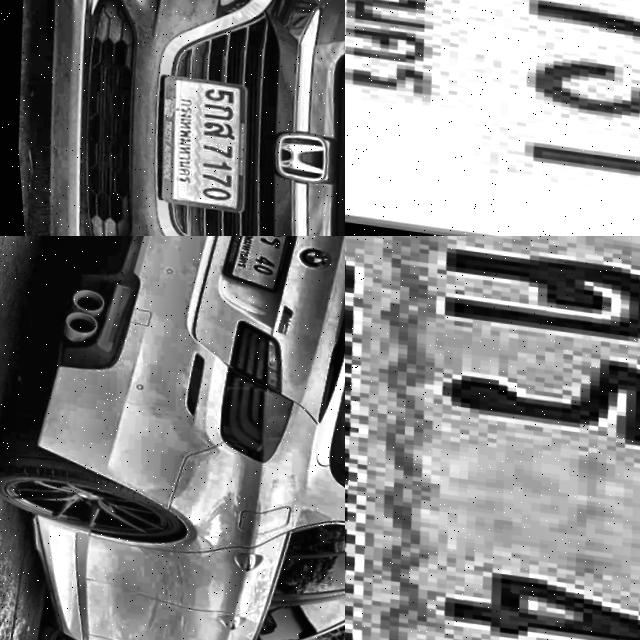license-plate: (345, 236, 640, 640), (345, 0, 640, 236), (143, 70, 250, 211), (209, 236, 304, 292)
